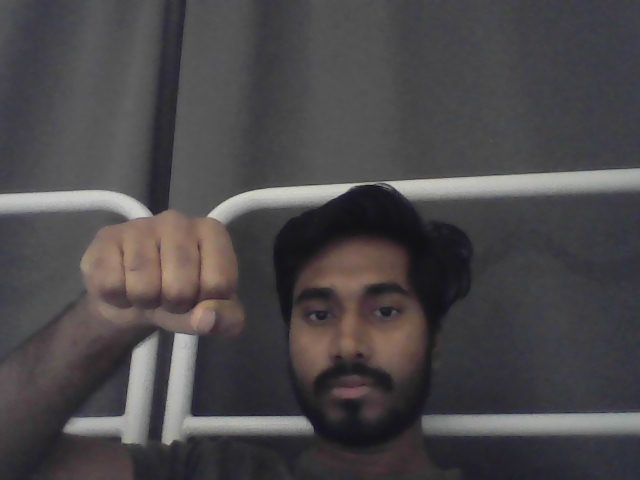yes: (79, 208, 248, 340)
